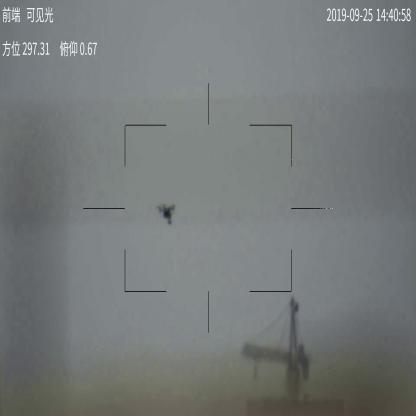uav: (155, 202, 174, 225)
